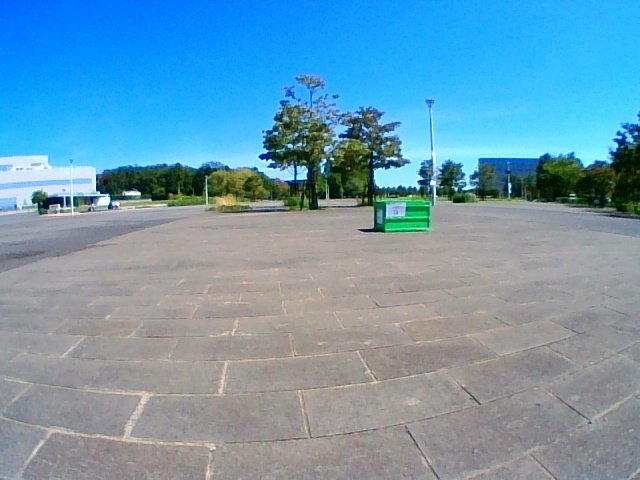green_box: (374, 200, 429, 232)
tag: (385, 203, 404, 216)
